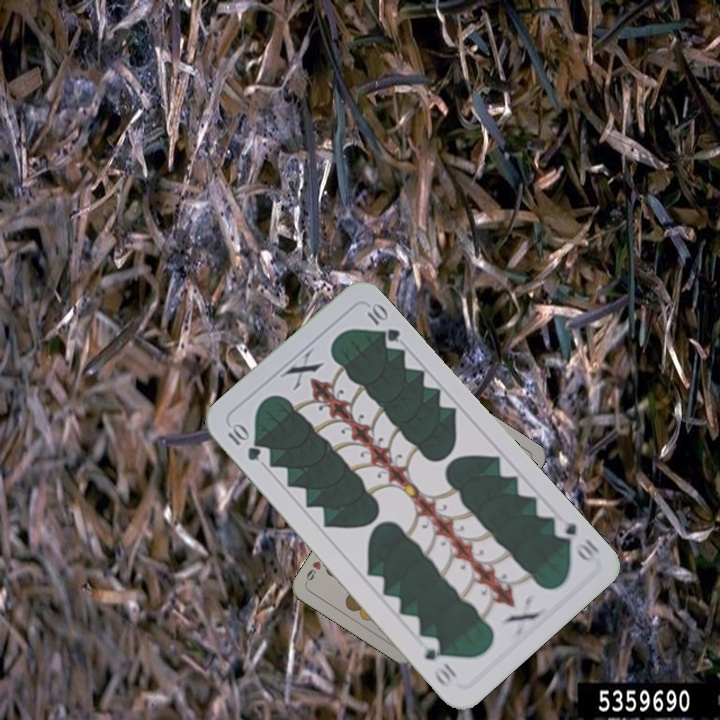G10: (549, 513, 602, 564), (223, 419, 264, 464)
